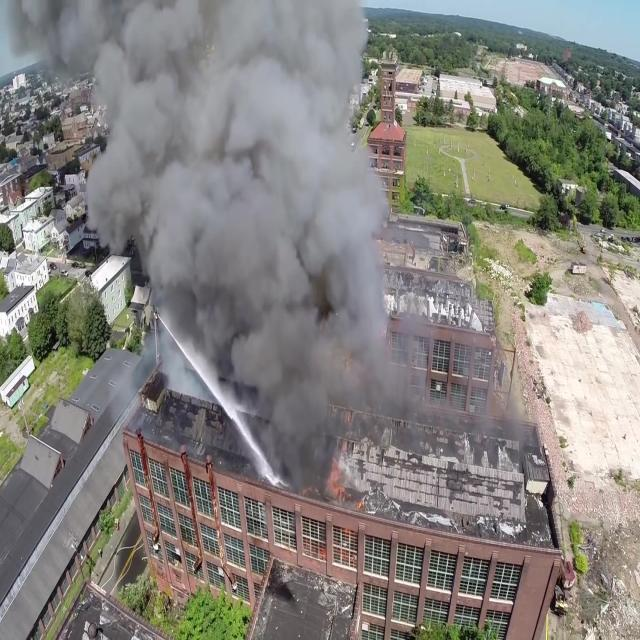Fire: (300, 455, 369, 564), (307, 315, 358, 408)
Smoke: (8, 0, 412, 537)
